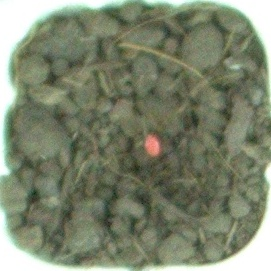chilli seed: (139, 130, 166, 159)
